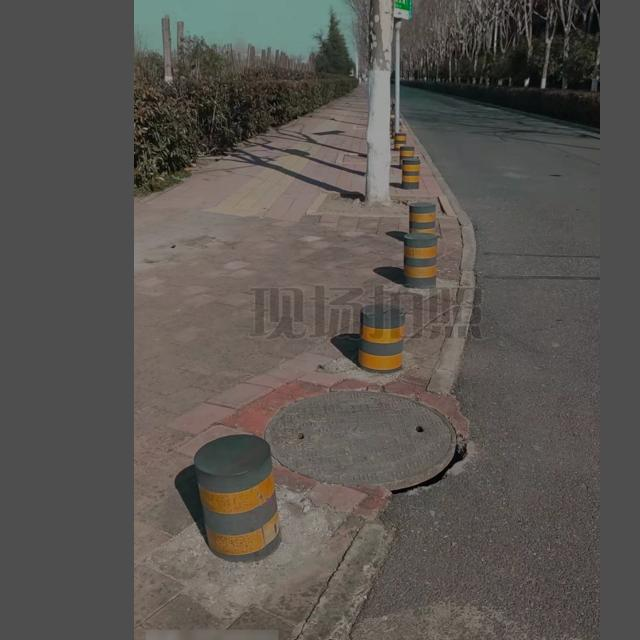circle: (260, 382, 472, 502)
